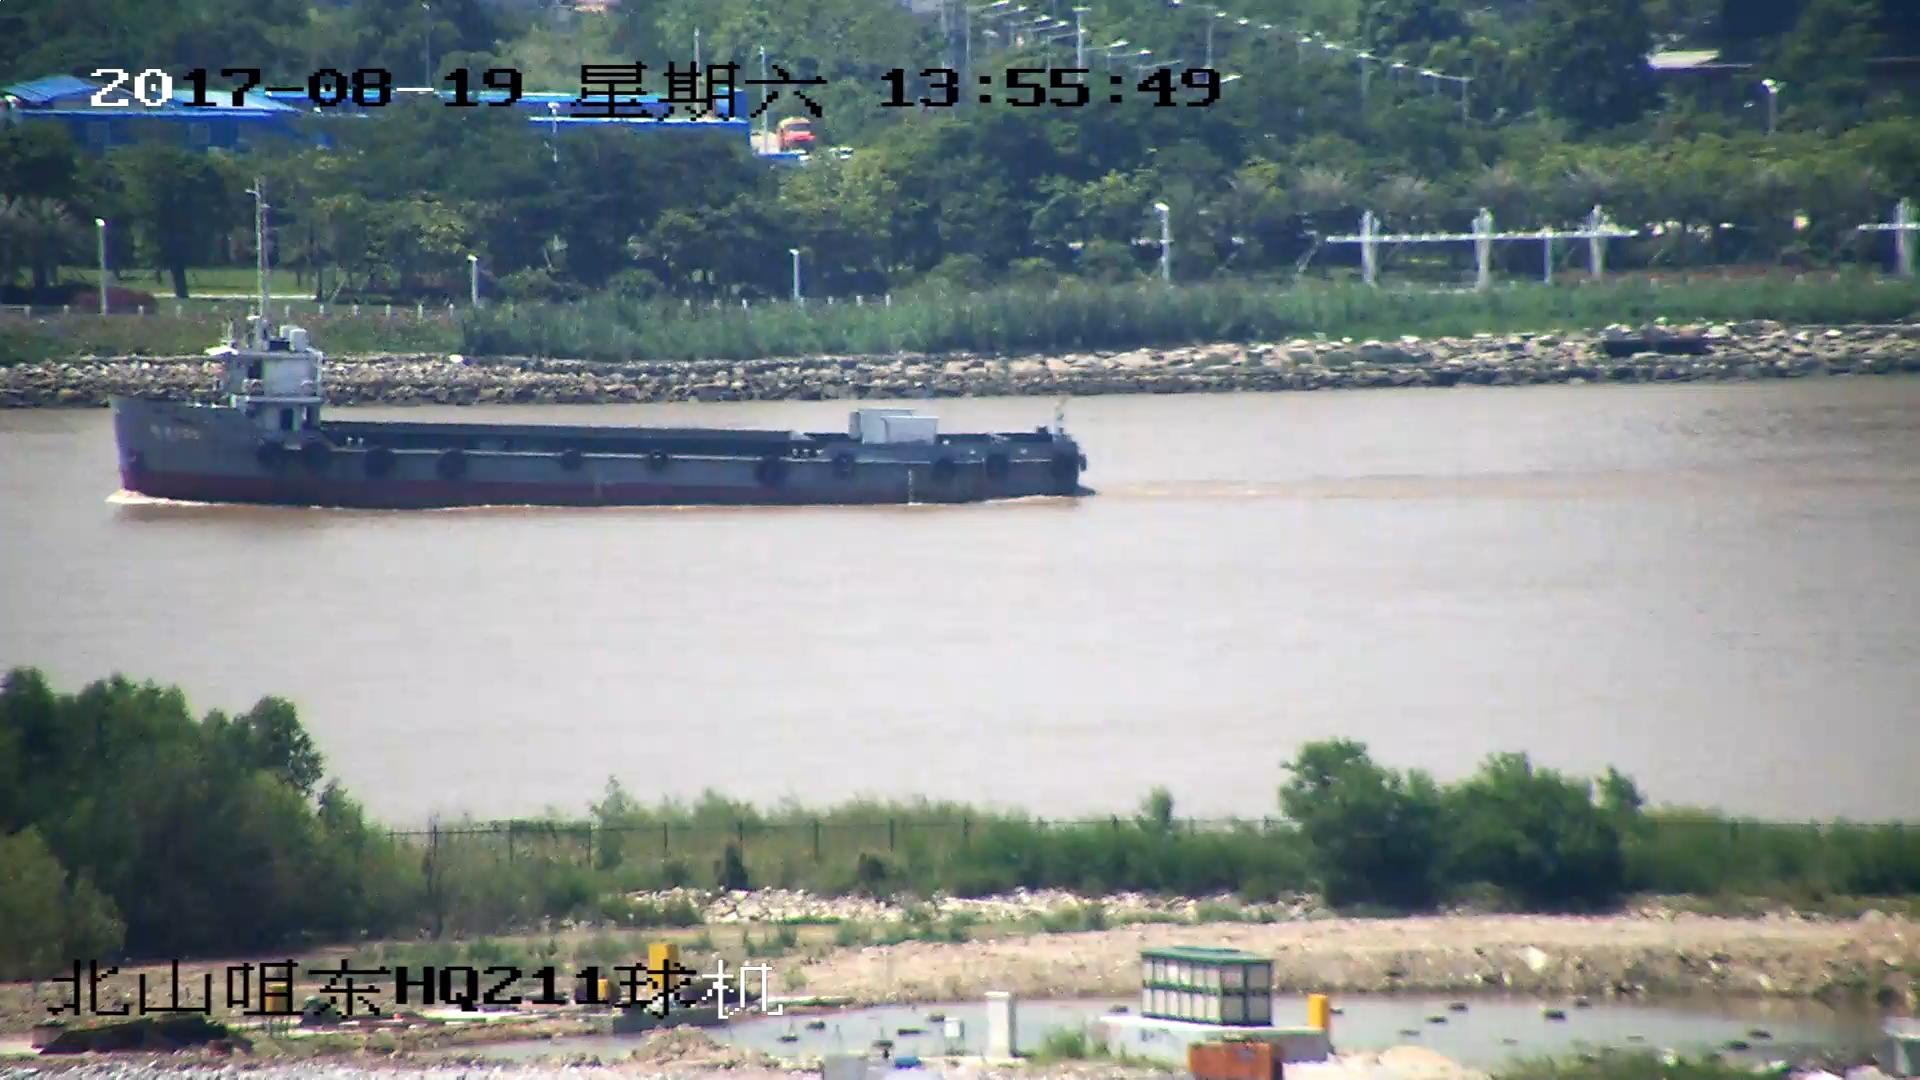general cargo ship: (113, 322, 1083, 515)
